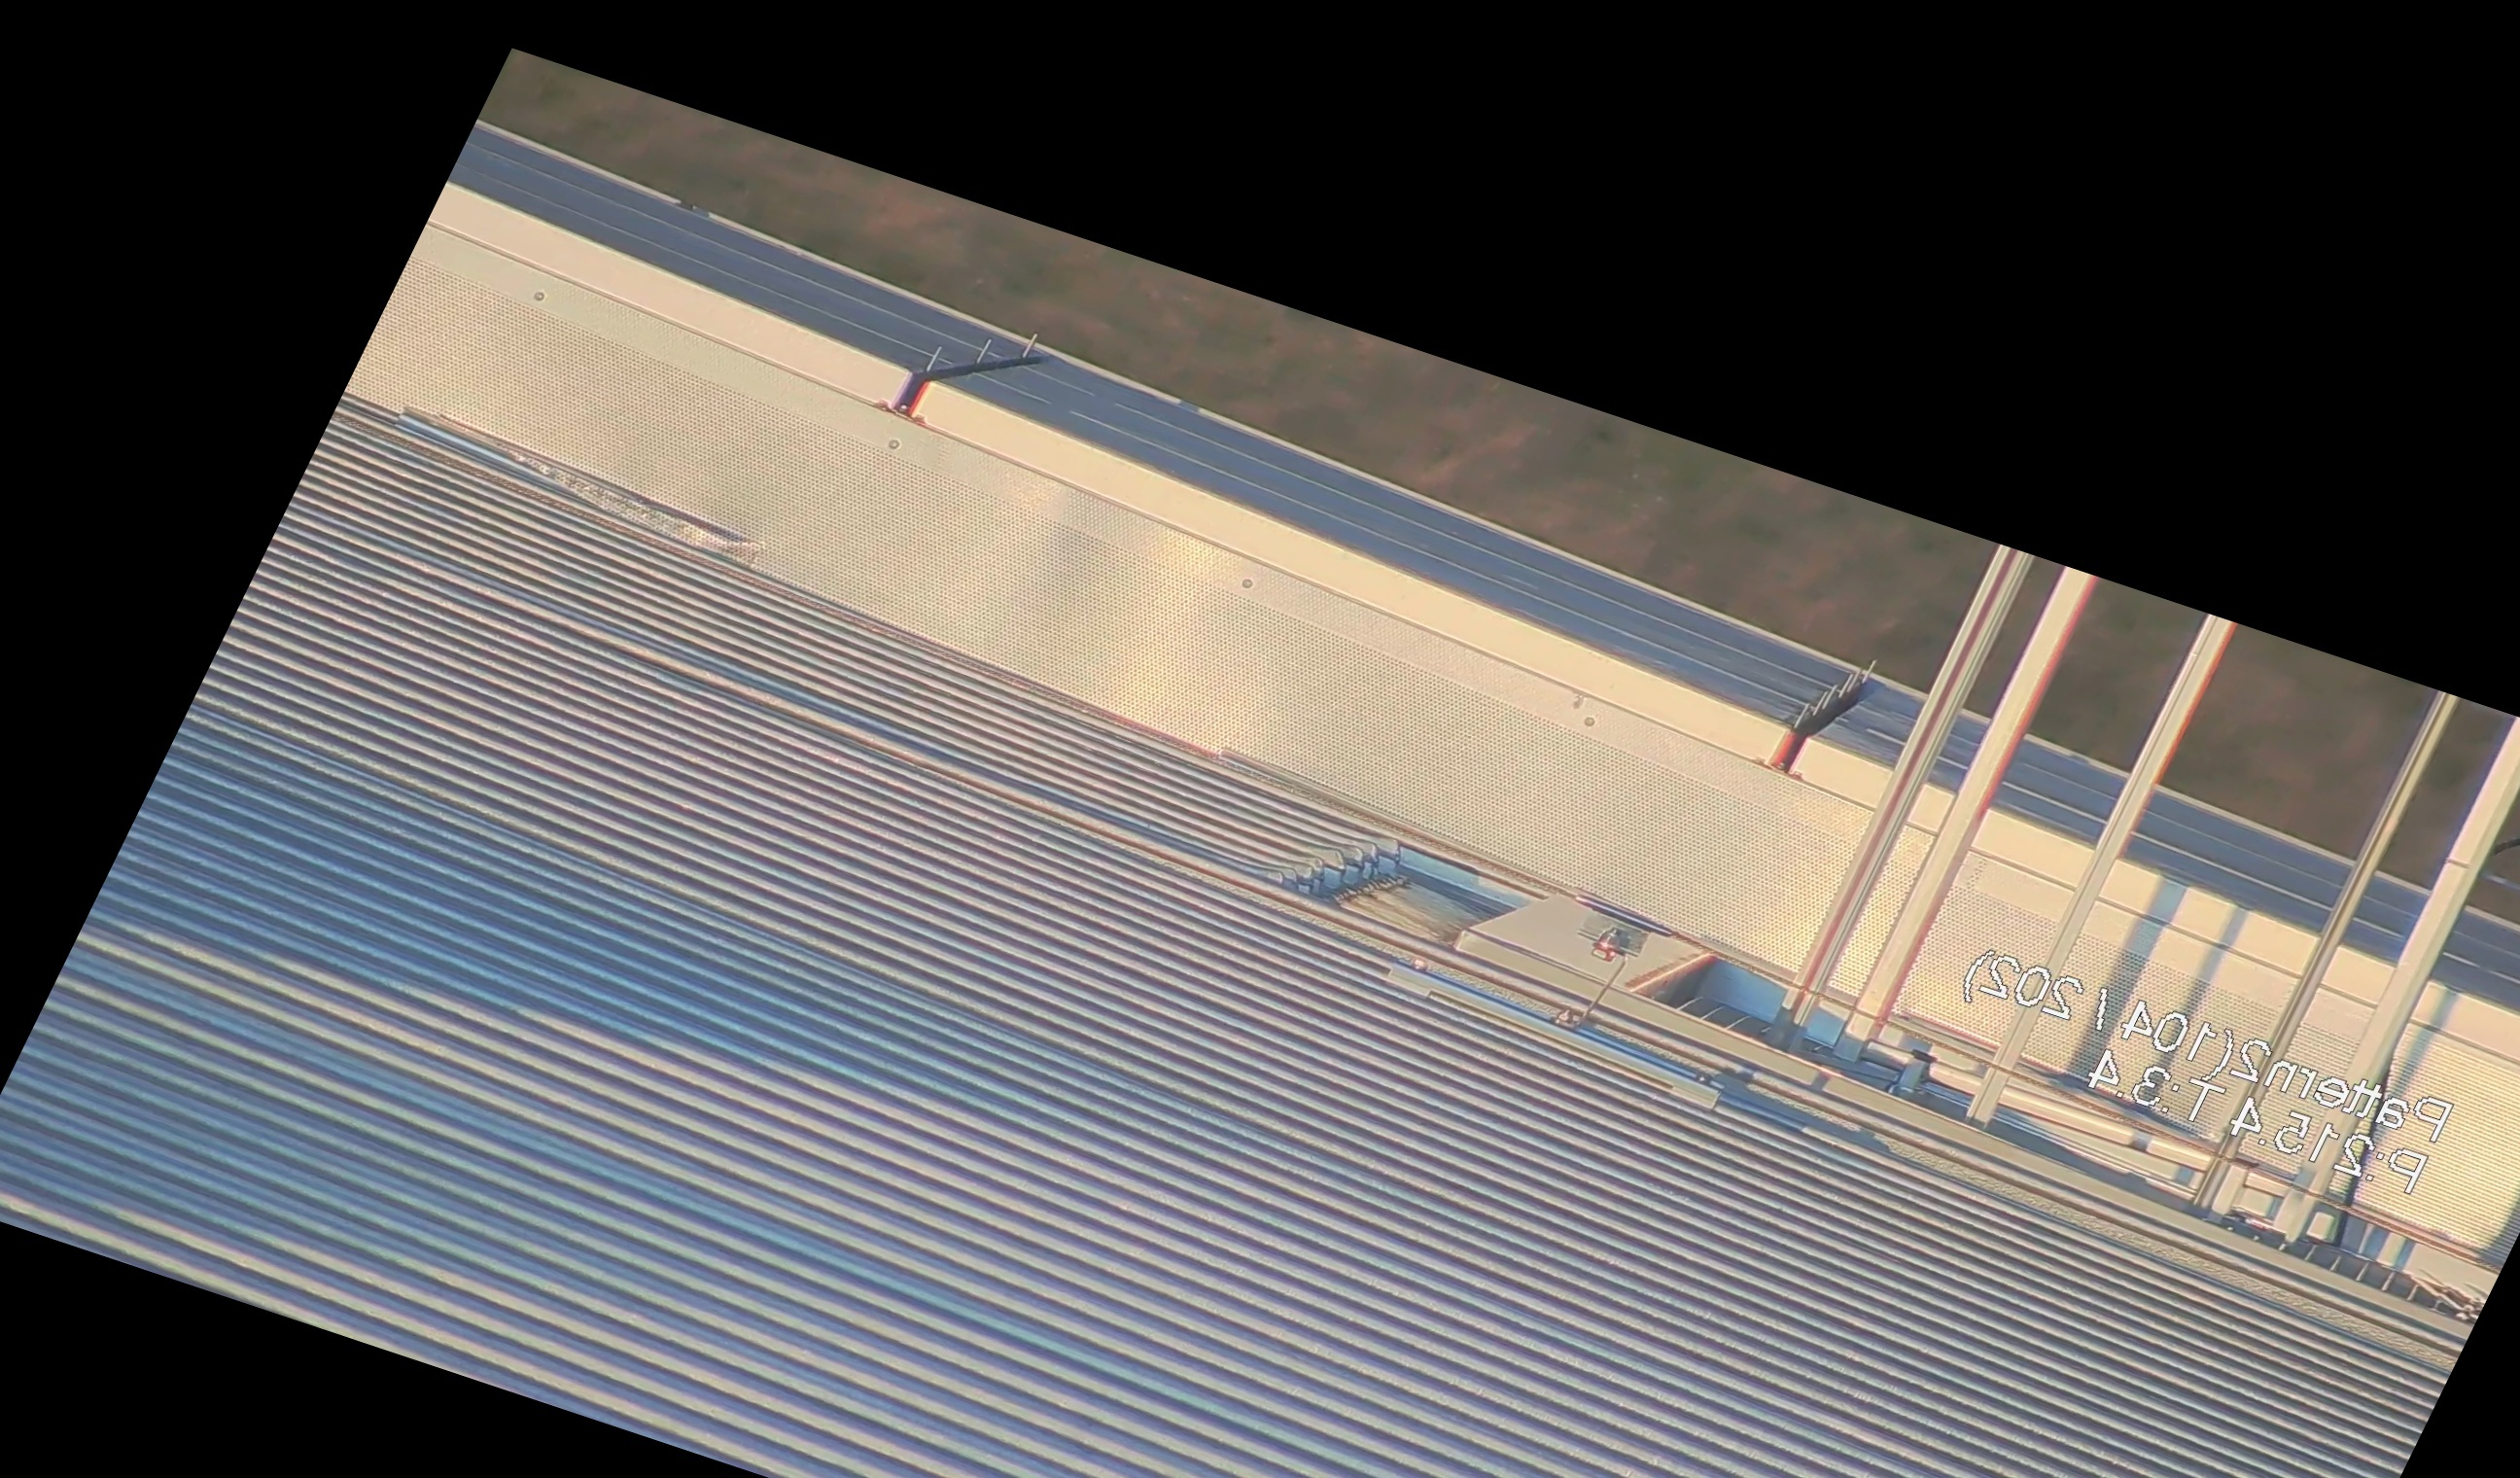Other: (1753, 644, 1894, 797)
